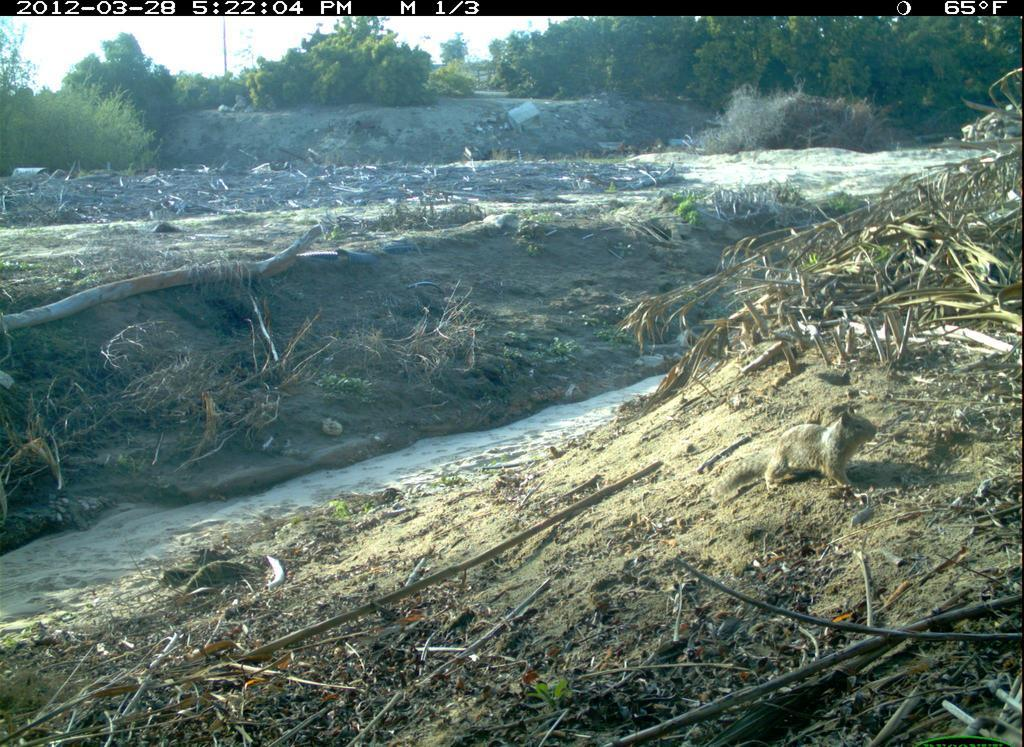squirrel: (698, 411, 881, 507)
